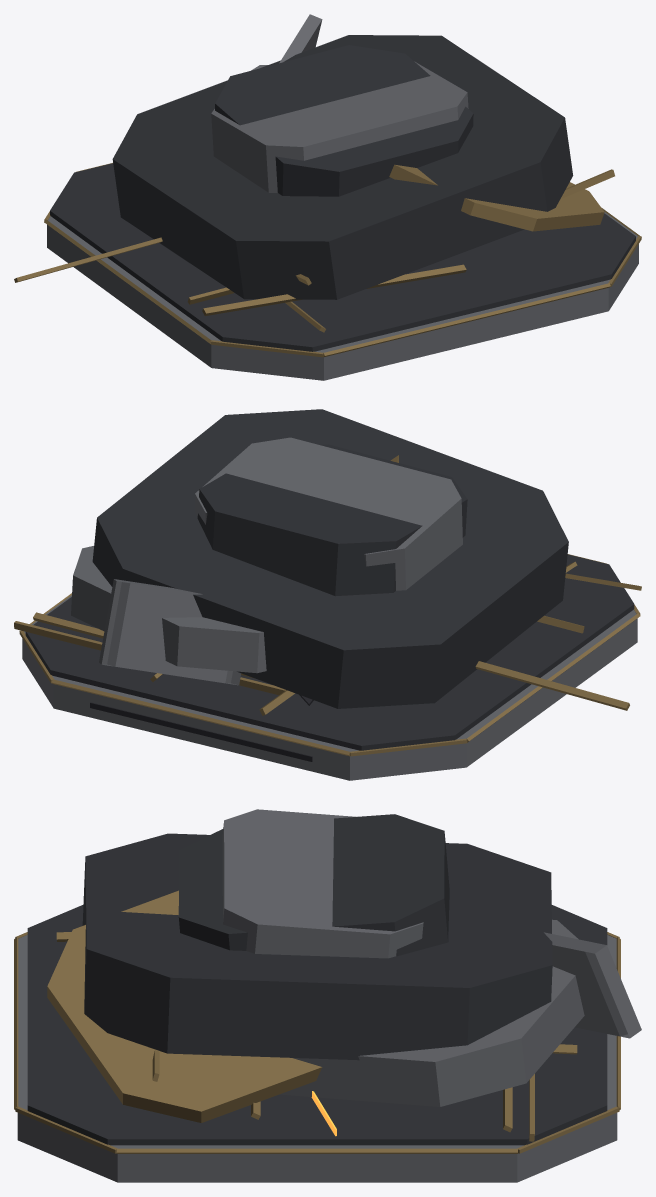
The model's file is Wreck_Aegis_CommandSpire.fbx.
3 views of the same model, one above another, from view 1: azimuth 30°, elevation 25°; view 2: azimuth 150°, elevation 25°; view 3: azimuth 270°, elevation 25° (orthographic). The views are drawn at different scales.
Visible parts, largest first — view 1: Wreck_Aegis_CommandSpire; view 2: Wreck_Aegis_CommandSpire; view 3: Wreck_Aegis_CommandSpire.
Part boxes in pixels (left/top/right/bottom): Wreck_Aegis_CommandSpire: left=14, top=14, right=641, bottom=380; Wreck_Aegis_CommandSpire: left=14, top=409, right=641, bottom=780; Wreck_Aegis_CommandSpire: left=14, top=809, right=641, bottom=1182.
Bounding box in the file's own units: 4.41 × 1.28 × 3.77.
